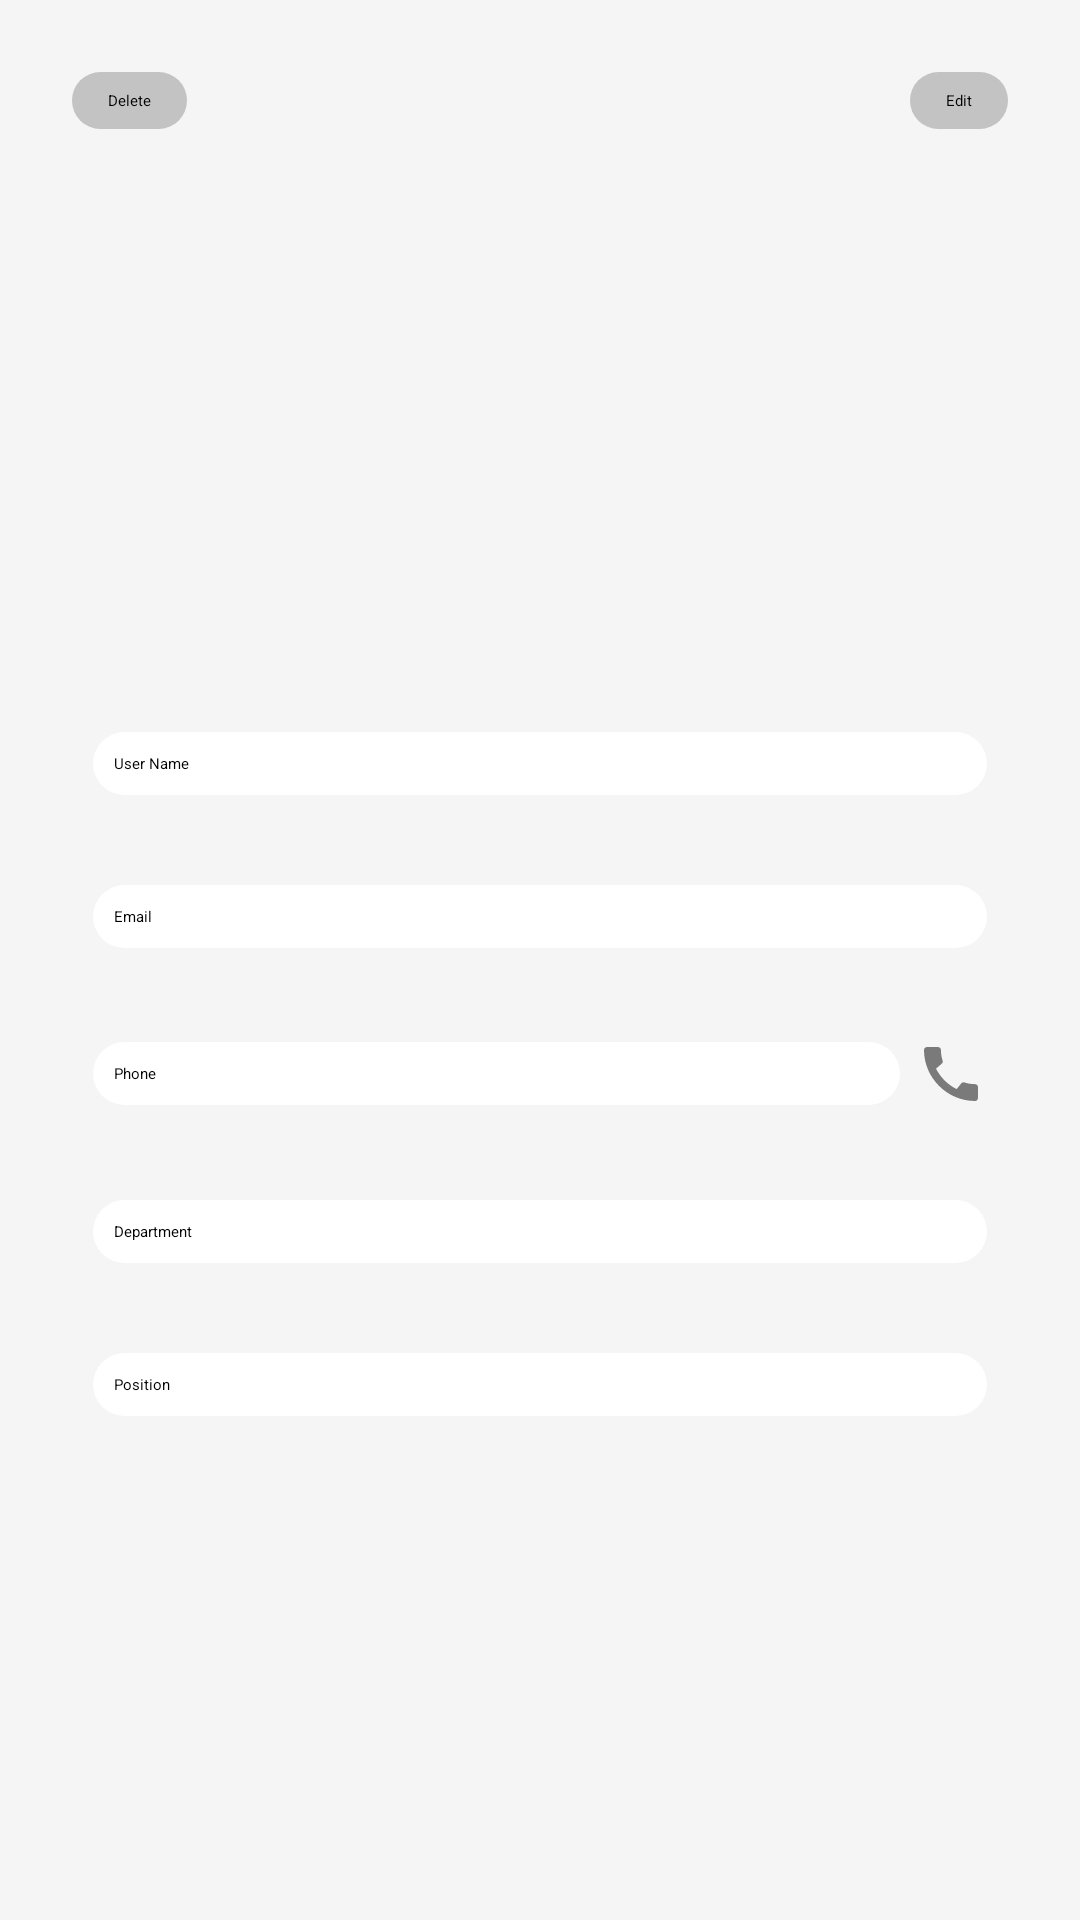

Point at icon controls on the screen. Image size 1080px x 1920px, points as (x=x, y=y).
전화 걸기: (x=951, y=1074)
